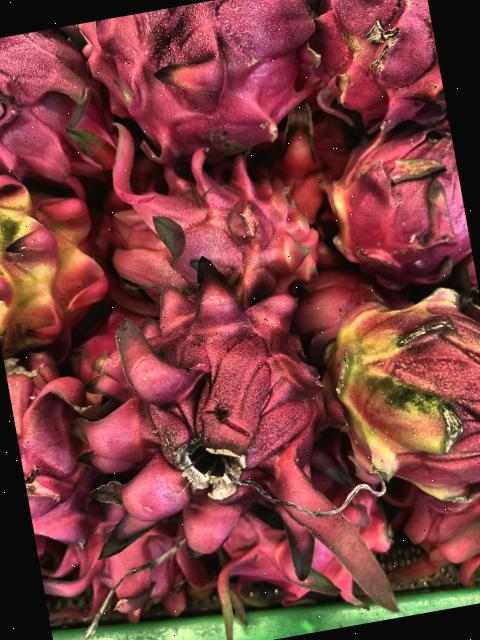buah-naga-belum-matang: (309, 270, 480, 528), (0, 158, 119, 368)
buah-naga-matang: (92, 264, 344, 558), (88, 86, 343, 326), (75, 0, 333, 171), (308, 114, 474, 286), (4, 349, 120, 565), (296, 0, 450, 152), (0, 21, 123, 210)
